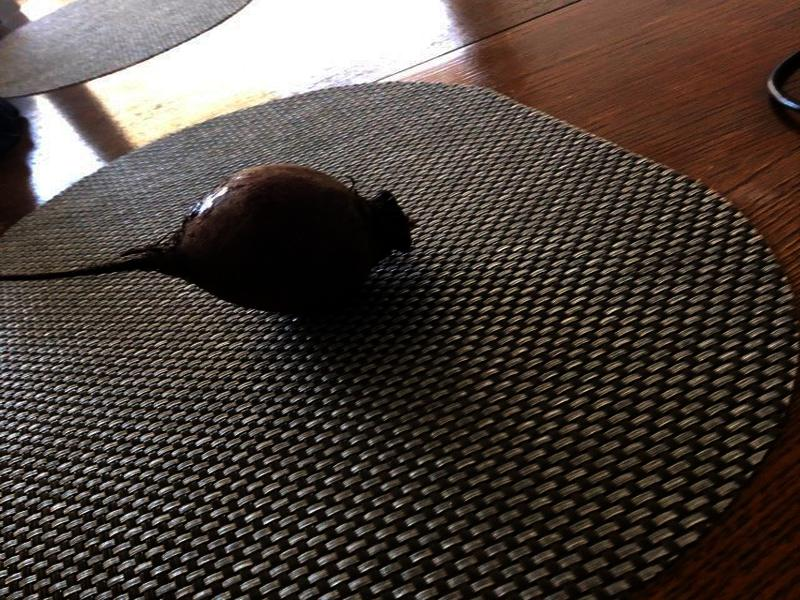Beet: (4, 165, 411, 310)
